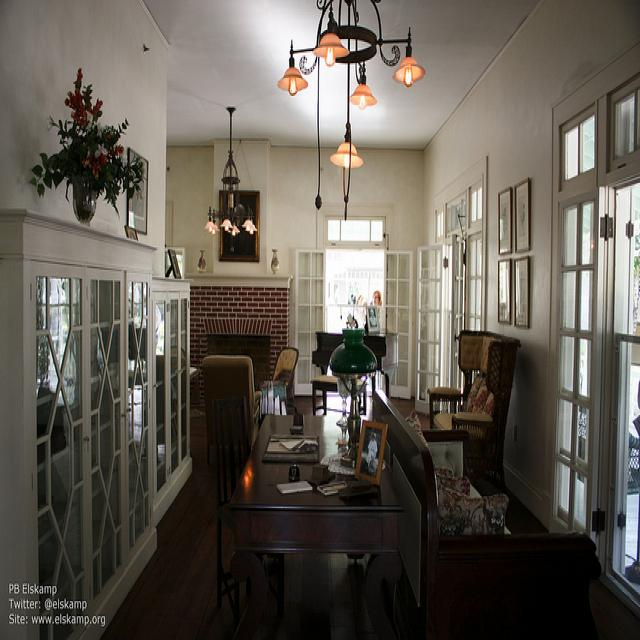chair: (425, 328, 520, 492), (213, 395, 249, 609), (203, 355, 261, 465), (261, 345, 298, 409)
dining table: (236, 405, 401, 561)
